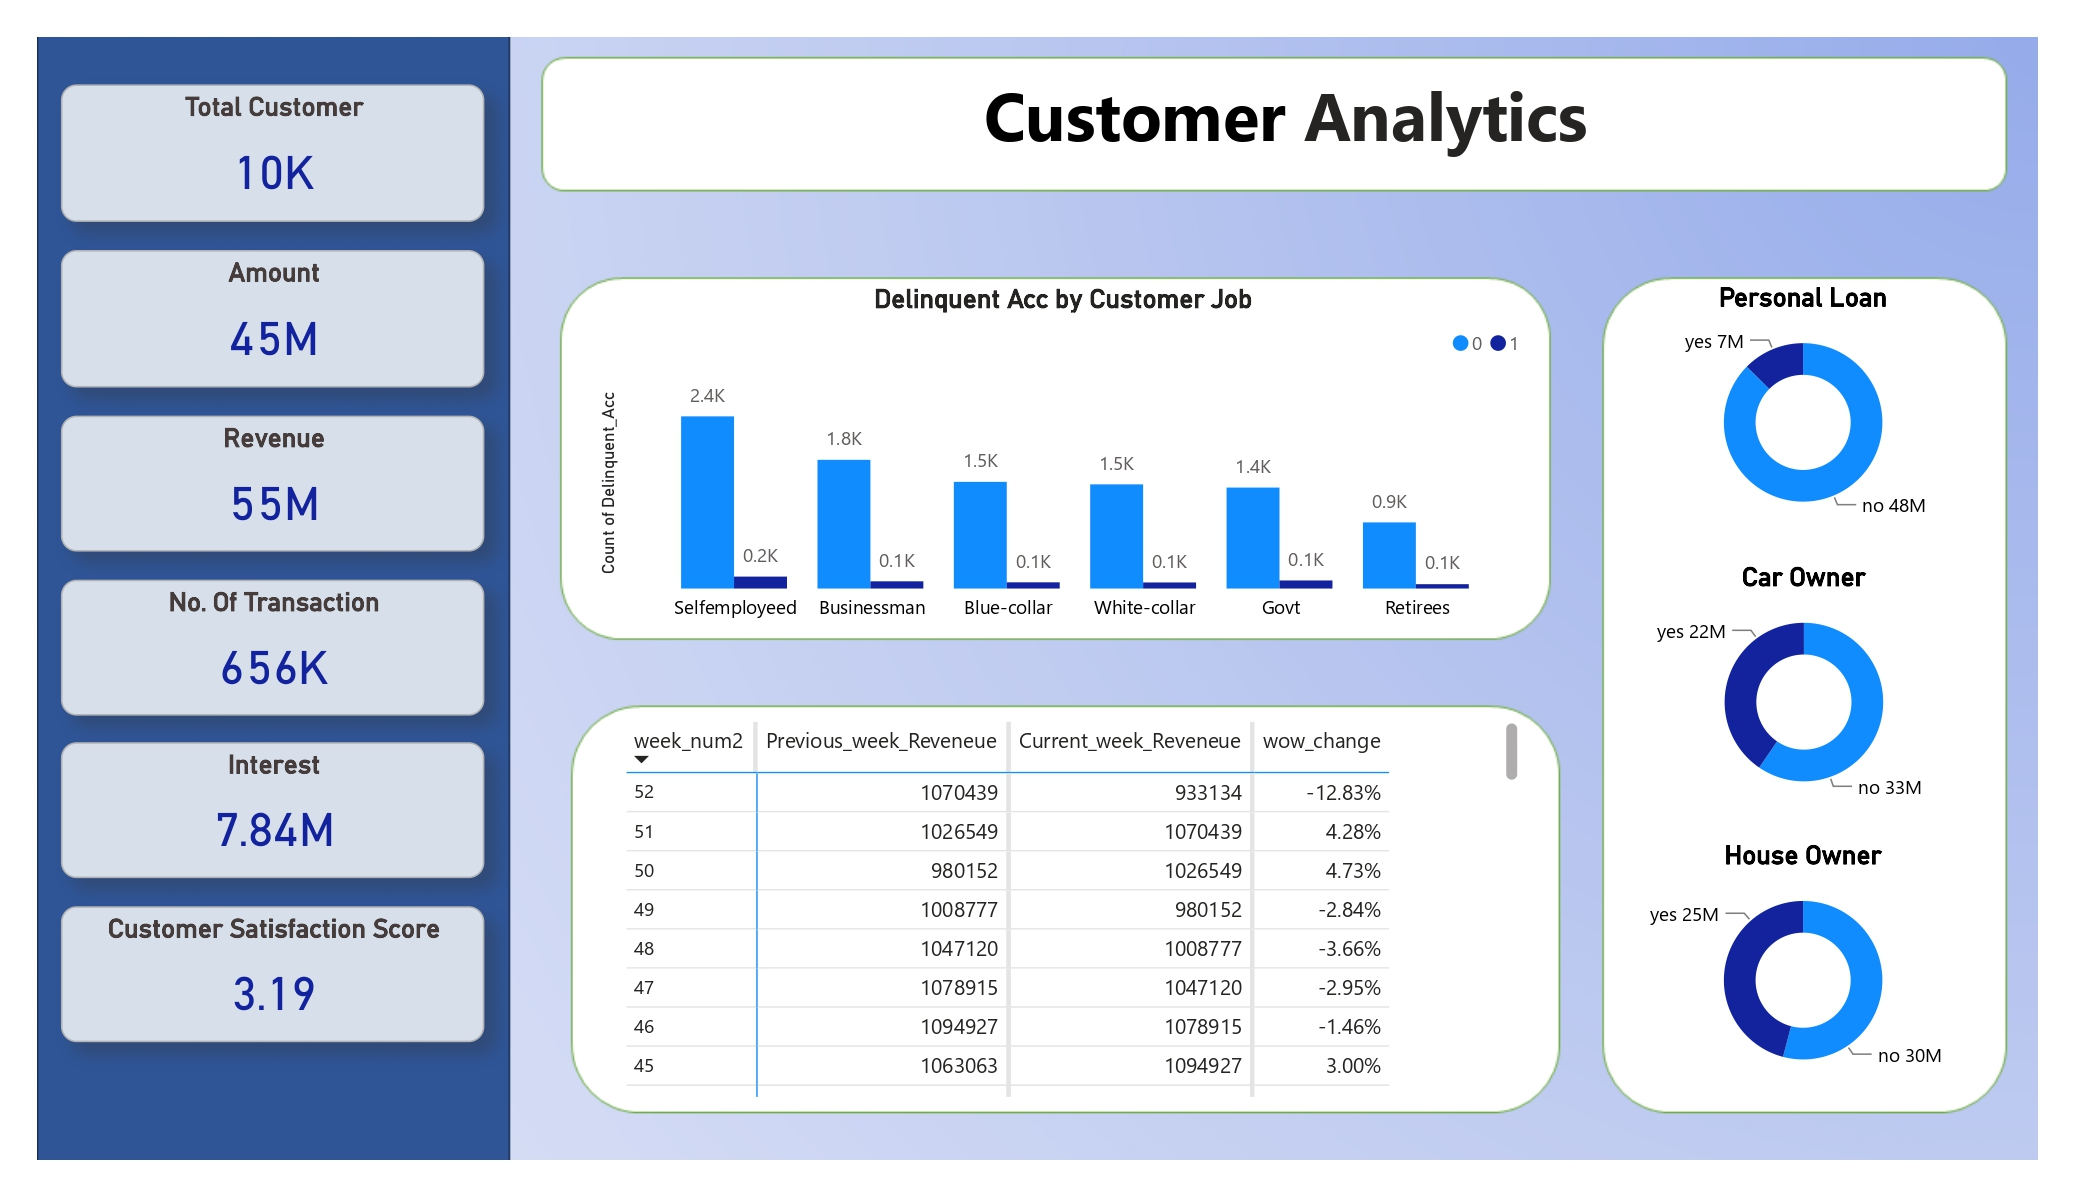

The page's visual inventory and layout, read from the dashboard file:
{"tool":"powerbi","page":{"name":"Customer Analytics","canvas":[1280,720],"ordinal":2},"visuals":[{"type":"donutChart","title":"Personal Loan","fields":{"Y":["Sum(credit_card.Revenue)"],"Category":["customer.Personal_loan"]},"box":[1002.9,156,254.4,162],"z":0},{"type":"donutChart","title":"Car Owner","fields":{"Y":["Sum(credit_card.Revenue)"],"Category":["customer.Car_Owner"]},"box":[1002.7,334.6,254.9,162],"z":1000},{"type":"donutChart","title":"House Owner","fields":{"Y":["Sum(credit_card.Revenue)"],"Category":["customer.House_Owner"]},"box":[1003.1,513.3,254,162],"z":2000},{"type":"clusteredColumnChart","title":"Delinquent Acc by Customer Job","fields":{"Category":["customer.Customer_Job"],"Y":["CountNonNull(credit_card.Delinquent_Acc)"],"Series":["credit_card.Delinquent_Acc"]},"box":[355.3,157.5,603.2,225.6],"z":3000},{"type":"card","title":"Amount","fields":{"Values":["Sum(credit_card.Total_Trans_Amt)"]},"box":[14.9,136,271,87.8],"z":4000},{"type":"card","title":"Revenue ","fields":{"Values":["Sum(credit_card.Revenue)"]},"box":[14.9,241.6,271,87],"z":5000},{"type":"card","title":"No. Of Transaction ","fields":{"Values":["Sum(credit_card.Total_Trans_Vol)"]},"box":[14.9,346.5,271,87],"z":6000},{"type":"card","title":"Interest","fields":{"Values":["Sum(credit_card.Interest_Earned)"]},"box":[14.9,451.4,271,87],"z":7000},{"type":"card","title":"Customer Satisfaction  Score","fields":{"Values":["Avg(customer.Cust_Satisfaction_Score)"]},"box":[14.9,556.2,271,87],"z":8000},{"type":"pivotTable","fields":{"Rows":["credit_card.week_num2"],"Values":["credit_card.Previous_week_Reveneue","credit_card.Current_week_Reveneue","credit_card.wow_change"]},"box":[372.5,433.1,580.4,249.8],"z":9000},{"type":"textbox","box":[328.6,15.1,928.2,78.7],"z":10000},{"type":"card","title":"Total Customer","fields":{"Values":["Count(credit_card.Client_Num)"]},"box":[15.1,30.3,271,87.8],"z":11000}]}

Visuals, with their boxes on the page's 1280x720 design canvas (x1, y1, x2, y2). These are canvas units, not pixel positions in the 2075x1200 screenshot, which may show the page scaled, cropped or inside an application window:
"Personal Loan" donutChart: pyautogui.locateOnScreen(1003, 156, 1257, 318)
"Car Owner" donutChart: pyautogui.locateOnScreen(1003, 335, 1258, 497)
"House Owner" donutChart: pyautogui.locateOnScreen(1003, 513, 1257, 675)
"Delinquent Acc by Customer Job" clusteredColumnChart: pyautogui.locateOnScreen(355, 158, 958, 383)
"Amount" card: pyautogui.locateOnScreen(15, 136, 286, 224)
"Revenue " card: pyautogui.locateOnScreen(15, 242, 286, 329)
"No. Of Transaction " card: pyautogui.locateOnScreen(15, 346, 286, 434)
"Interest" card: pyautogui.locateOnScreen(15, 451, 286, 538)
"Customer Satisfaction  Score" card: pyautogui.locateOnScreen(15, 556, 286, 643)
pivotTable - credit_card.week_num2 x credit_card.Previous_week_Reveneue: pyautogui.locateOnScreen(372, 433, 953, 683)
textbox: pyautogui.locateOnScreen(329, 15, 1257, 94)
"Total Customer" card: pyautogui.locateOnScreen(15, 30, 286, 118)
